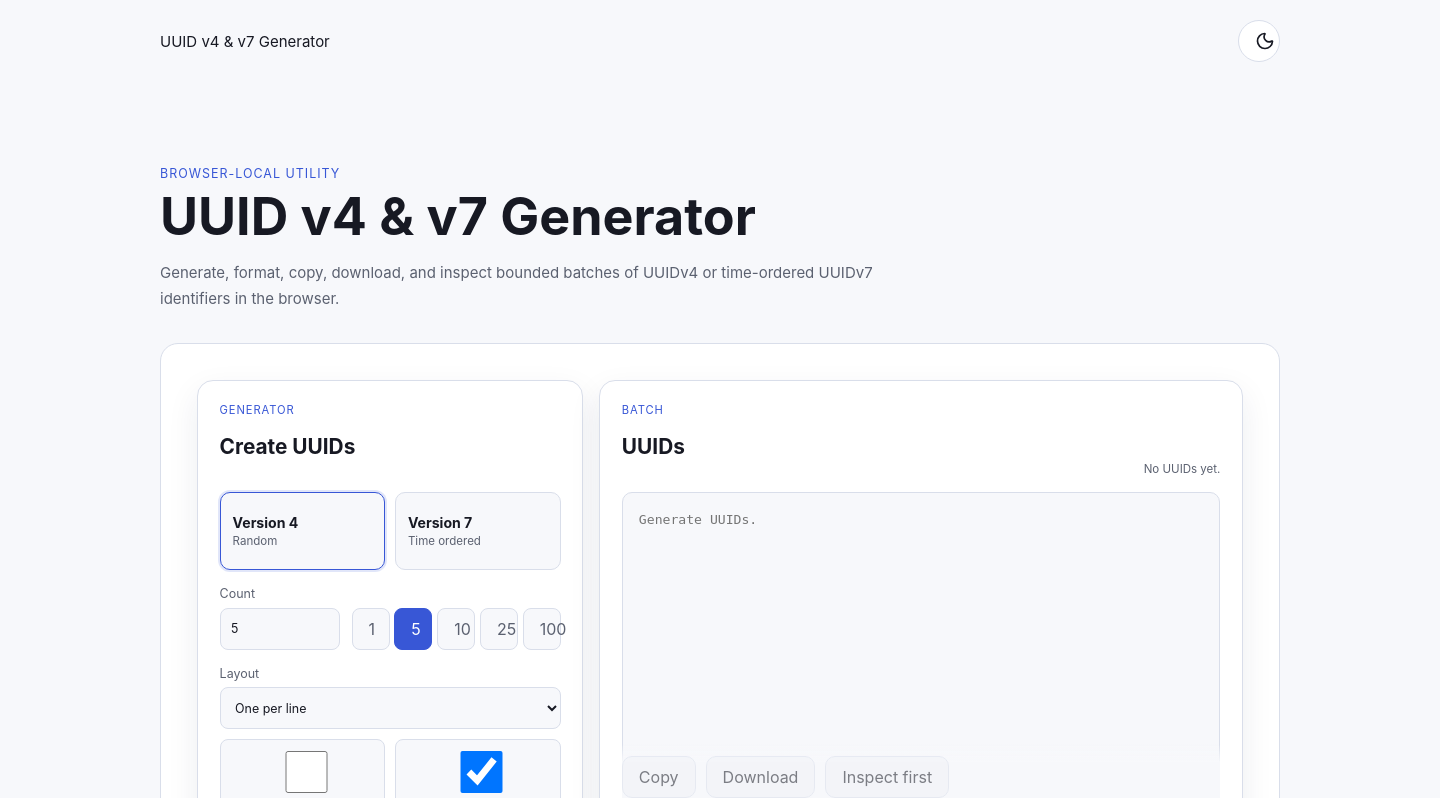
UUID v4 & v7 Generator › generates and inspects a UUIDv7 value
This screenshot has width=1440, height=798.
What coordinates should you click on to do the following:
click the radio button labelled "Version 7 Time ordered"
I would click on:
 (478, 531)
Its box is [395,492,561,570].
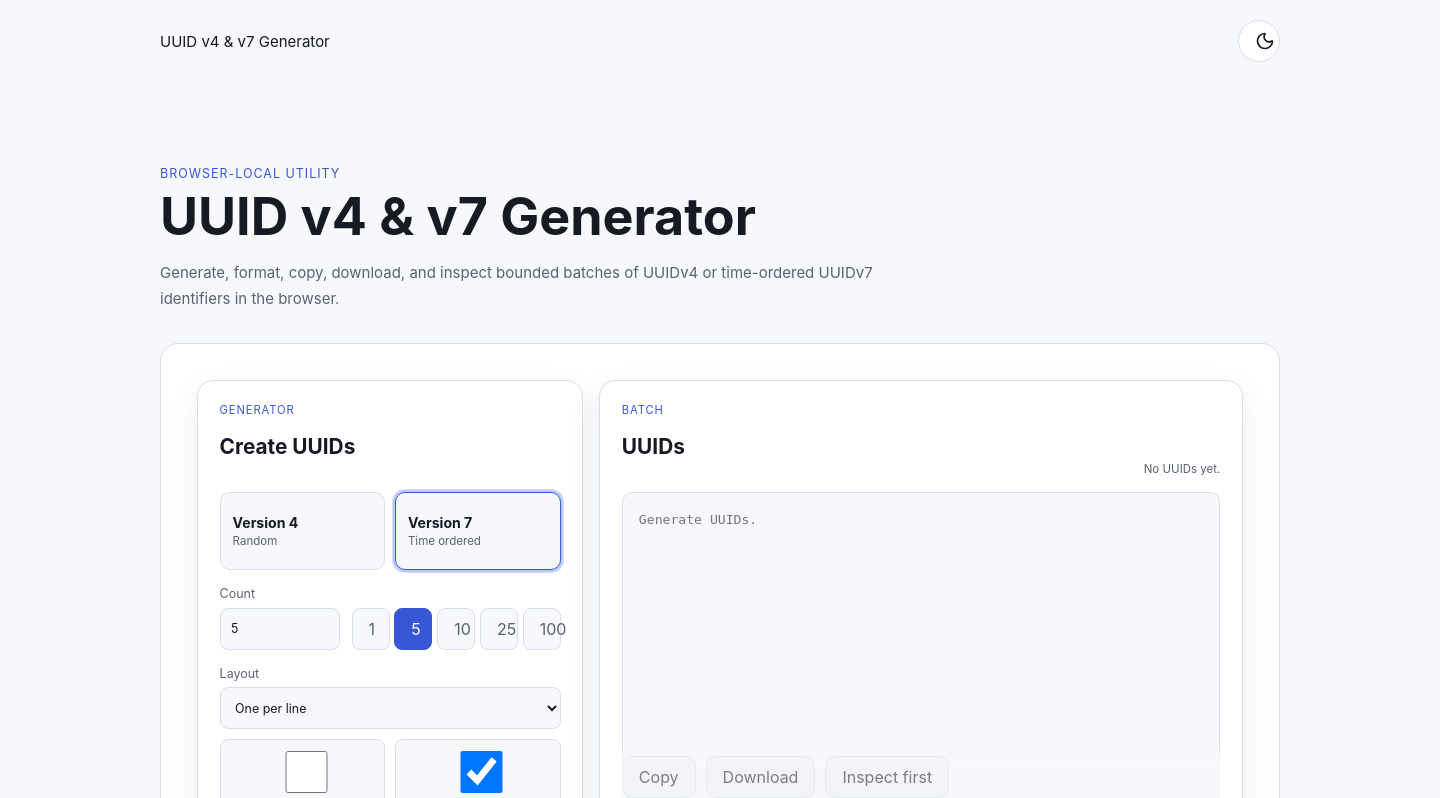
What coordinates should you click on to do the following:
click the button "1"
I would click on:
 (371, 629)
Its box is [352,608,390,650].
(page scrolled)
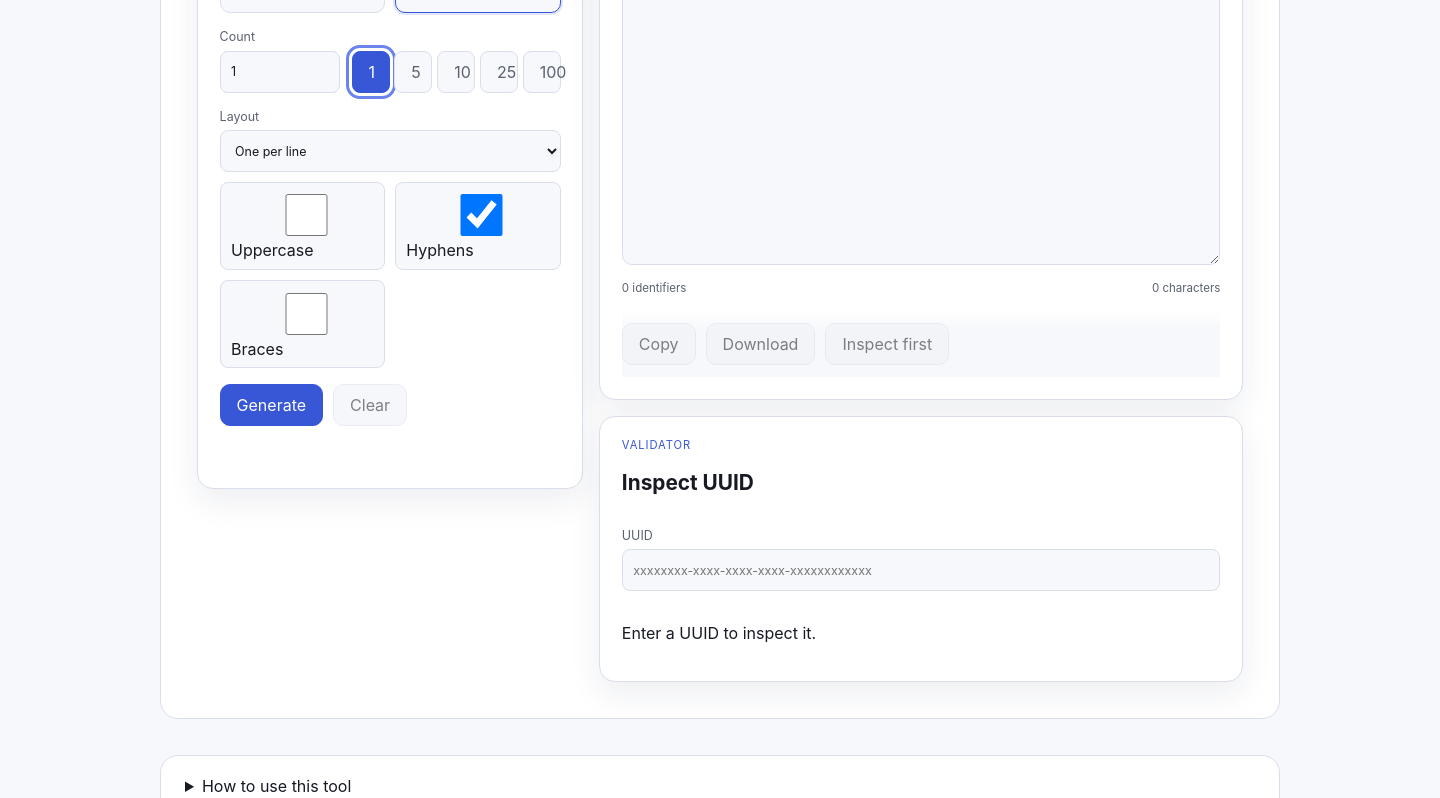
What coordinates should you click on to do the following:
click the button "Generate"
I would click on:
 (271, 405)
Its box is [220,384,323,426].
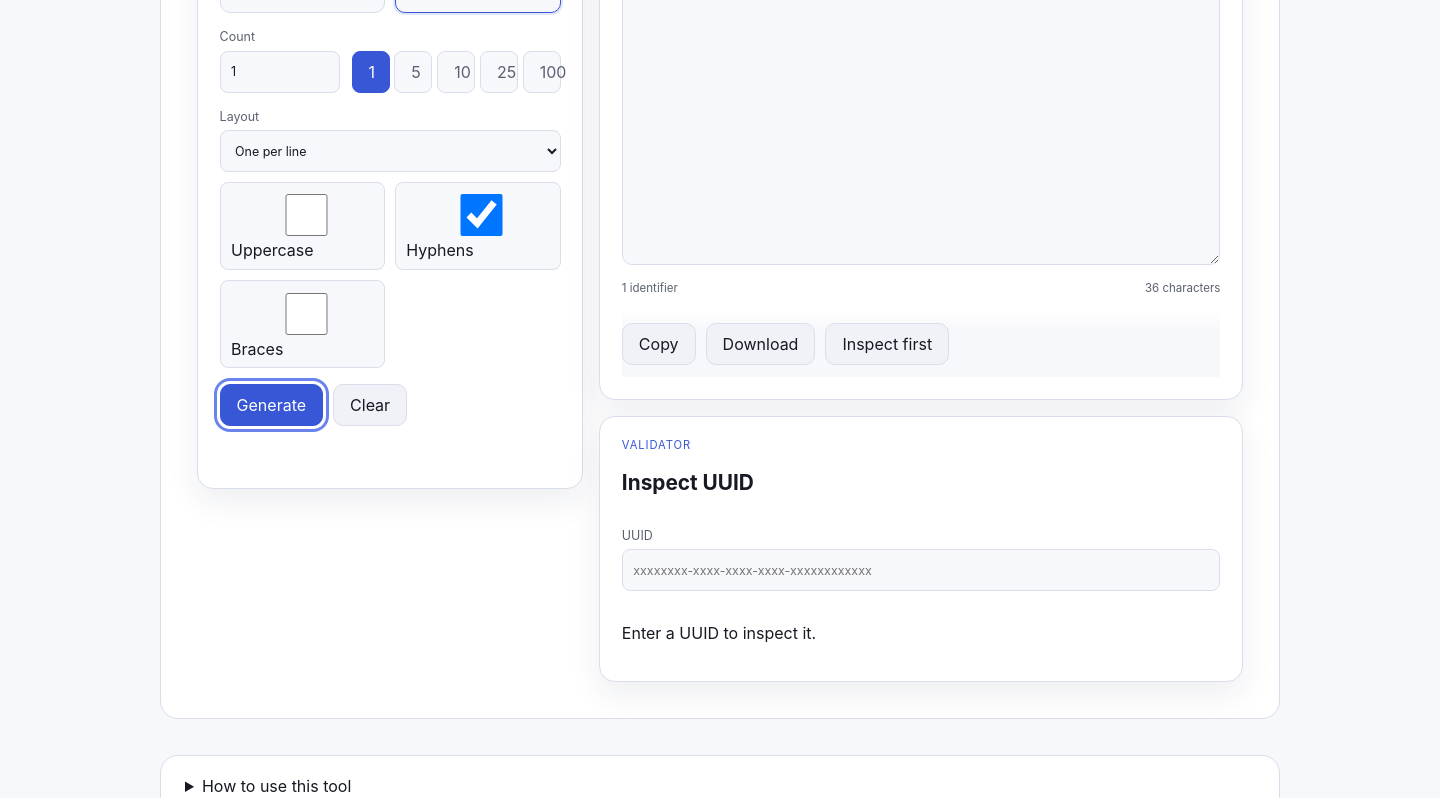
What coordinates should you click on to do the following:
click the button "Inspect first"
I would click on:
 (887, 344)
Its box is [825,323,949,365].
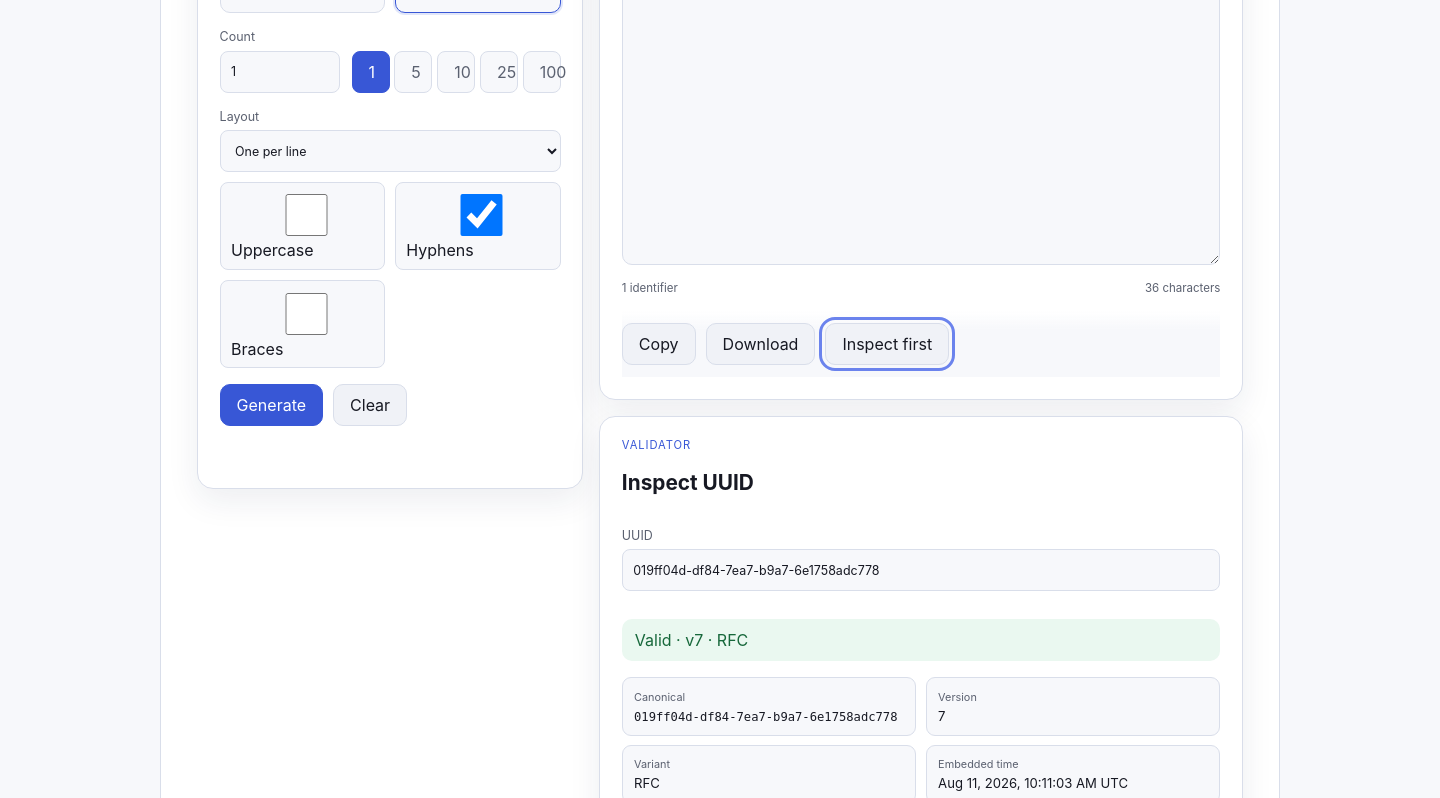
Check: the message shows "v7", box [635,630,748,650]
